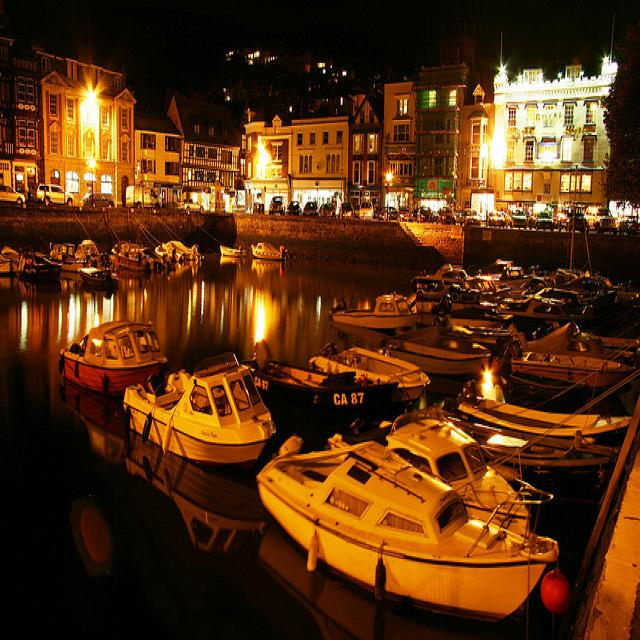Boat: (258, 428, 579, 640), (138, 356, 343, 486), (466, 367, 630, 478), (397, 406, 526, 547), (523, 322, 640, 423), (334, 330, 441, 439), (64, 311, 176, 414), (404, 281, 498, 401), (323, 276, 432, 348), (148, 231, 210, 299), (53, 236, 114, 292), (248, 213, 290, 284), (112, 232, 163, 289), (232, 239, 259, 288)
